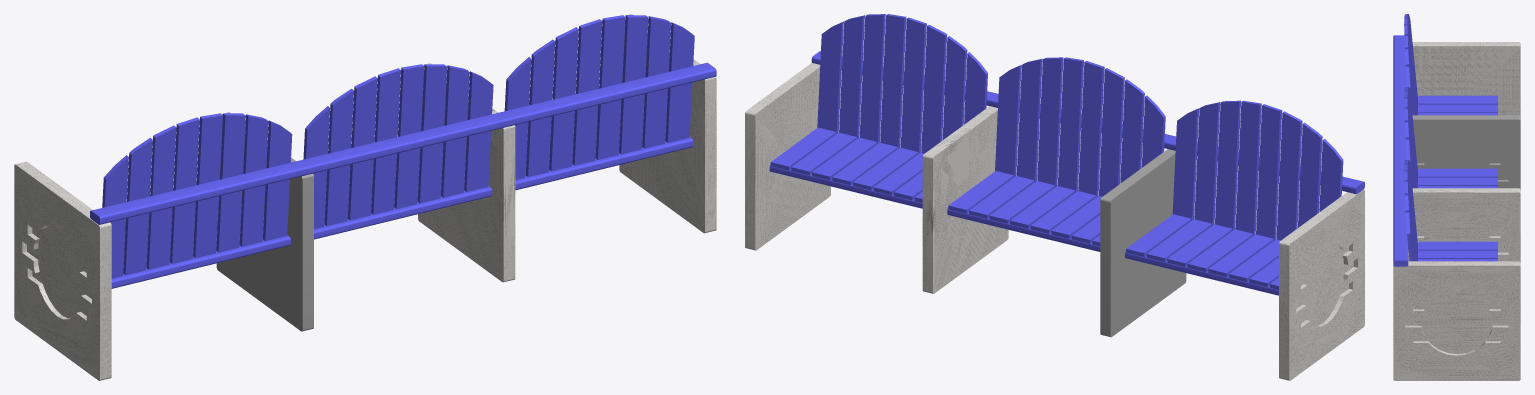
The picture shows the model from 3 angles, left to right: view 1: azimuth 30°, elevation 25°; view 2: azimuth 150°, elevation 25°; view 3: azimuth 270°, elevation 25°; orthographic projection. The views are drawn at different scales.
Parts seen in each view (by area): view 1: mesh36_mesh36-geometry, mesh29_mesh29-geometry, mesh1_mesh1-geometry, mesh24_mesh24-geometry, mesh23_mesh23-geometry, mesh20_mesh20-geometry, mesh21_mesh21-geometry, mesh22_mesh22-geometry, mesh25_mesh25-geometry, mesh26_mesh26-geometry, mesh32_mesh32-geometry, mesh30_mesh30-geometry (+1 smaller); view 2: mesh29_mesh29-geometry, mesh36_mesh36-geometry, mesh32_mesh32-geometry, mesh24_mesh24-geometry, mesh23_mesh23-geometry, mesh21_mesh21-geometry, mesh20_mesh20-geometry, mesh25_mesh25-geometry, mesh26_mesh26-geometry, mesh22_mesh22-geometry, mesh27_mesh27-geometry, mesh11_mesh11-geometry (+8 smaller); view 3: mesh29_mesh29-geometry, mesh36_mesh36-geometry, mesh32_mesh32-geometry, mesh1_mesh1-geometry, mesh4_mesh4-geometry, mesh5_mesh5-geometry, mesh6_mesh6-geometry, mesh26_mesh26-geometry, mesh24_mesh24-geometry, mesh21_mesh21-geometry, mesh20_mesh20-geometry, mesh23_mesh23-geometry (+3 smaller).
Part boxes in pixels (x1=…): mesh36_mesh36-geometry: x1=14, y1=161, x2=111, y2=380; mesh29_mesh29-geometry: x1=418, y1=14, x2=716, y2=282; mesh1_mesh1-geometry: x1=90, y1=62, x2=716, y2=224; mesh24_mesh24-geometry: x1=169, y1=19, x2=602, y2=263; mesh23_mesh23-geometry: x1=193, y1=15, x2=625, y2=258; mesh20_mesh20-geometry: x1=146, y1=27, x2=578, y2=269; mesh21_mesh21-geometry: x1=216, y1=15, x2=648, y2=252; mesh22_mesh22-geometry: x1=123, y1=39, x2=555, y2=275; mesh25_mesh25-geometry: x1=239, y1=16, x2=671, y2=246; mesh26_mesh26-geometry: x1=263, y1=22, x2=694, y2=241; mesh32_mesh32-geometry: x1=216, y1=112, x2=313, y2=331; mesh30_mesh30-geometry: x1=111, y1=137, x2=693, y2=288; mesh29_mesh29-geometry: x1=745, y1=63, x2=1008, y2=293; mesh36_mesh36-geometry: x1=1279, y1=189, x2=1364, y2=380; mesh32_mesh32-geometry: x1=1100, y1=149, x2=1186, y2=337; mesh24_mesh24-geometry: x1=900, y1=17, x2=1282, y2=240; mesh23_mesh23-geometry: x1=880, y1=14, x2=1261, y2=235; mesh21_mesh21-geometry: x1=859, y1=14, x2=1240, y2=230; mesh20_mesh20-geometry: x1=921, y1=24, x2=1302, y2=240; mesh25_mesh25-geometry: x1=839, y1=15, x2=1220, y2=225; mesh26_mesh26-geometry: x1=817, y1=21, x2=1199, y2=220; mesh22_mesh22-geometry: x1=942, y1=36, x2=1322, y2=227; mesh27_mesh27-geometry: x1=964, y1=52, x2=1343, y2=212; mesh11_mesh11-geometry: x1=770, y1=127, x2=1191, y2=256; mesh29_mesh29-geometry: x1=1393, y1=188, x2=1520, y2=380; mesh36_mesh36-geometry: x1=1412, y1=42, x2=1520, y2=115; mesh32_mesh32-geometry: x1=1412, y1=115, x2=1520, y2=188; mesh1_mesh1-geometry: x1=1393, y1=35, x2=1408, y2=266; mesh4_mesh4-geometry: x1=1418, y1=95, x2=1497, y2=250; mesh5_mesh5-geometry: x1=1418, y1=104, x2=1497, y2=258; mesh6_mesh6-geometry: x1=1418, y1=113, x2=1497, y2=261; mesh26_mesh26-geometry: x1=1405, y1=66, x2=1413, y2=261; mesh24_mesh24-geometry: x1=1404, y1=18, x2=1416, y2=261; mesh21_mesh21-geometry: x1=1404, y1=35, x2=1415, y2=260; mesh20_mesh20-geometry: x1=1404, y1=14, x2=1417, y2=261; mesh23_mesh23-geometry: x1=1404, y1=25, x2=1416, y2=261.
Size of the model in its own units: 0.918 by 0.3292 by 0.2211.
